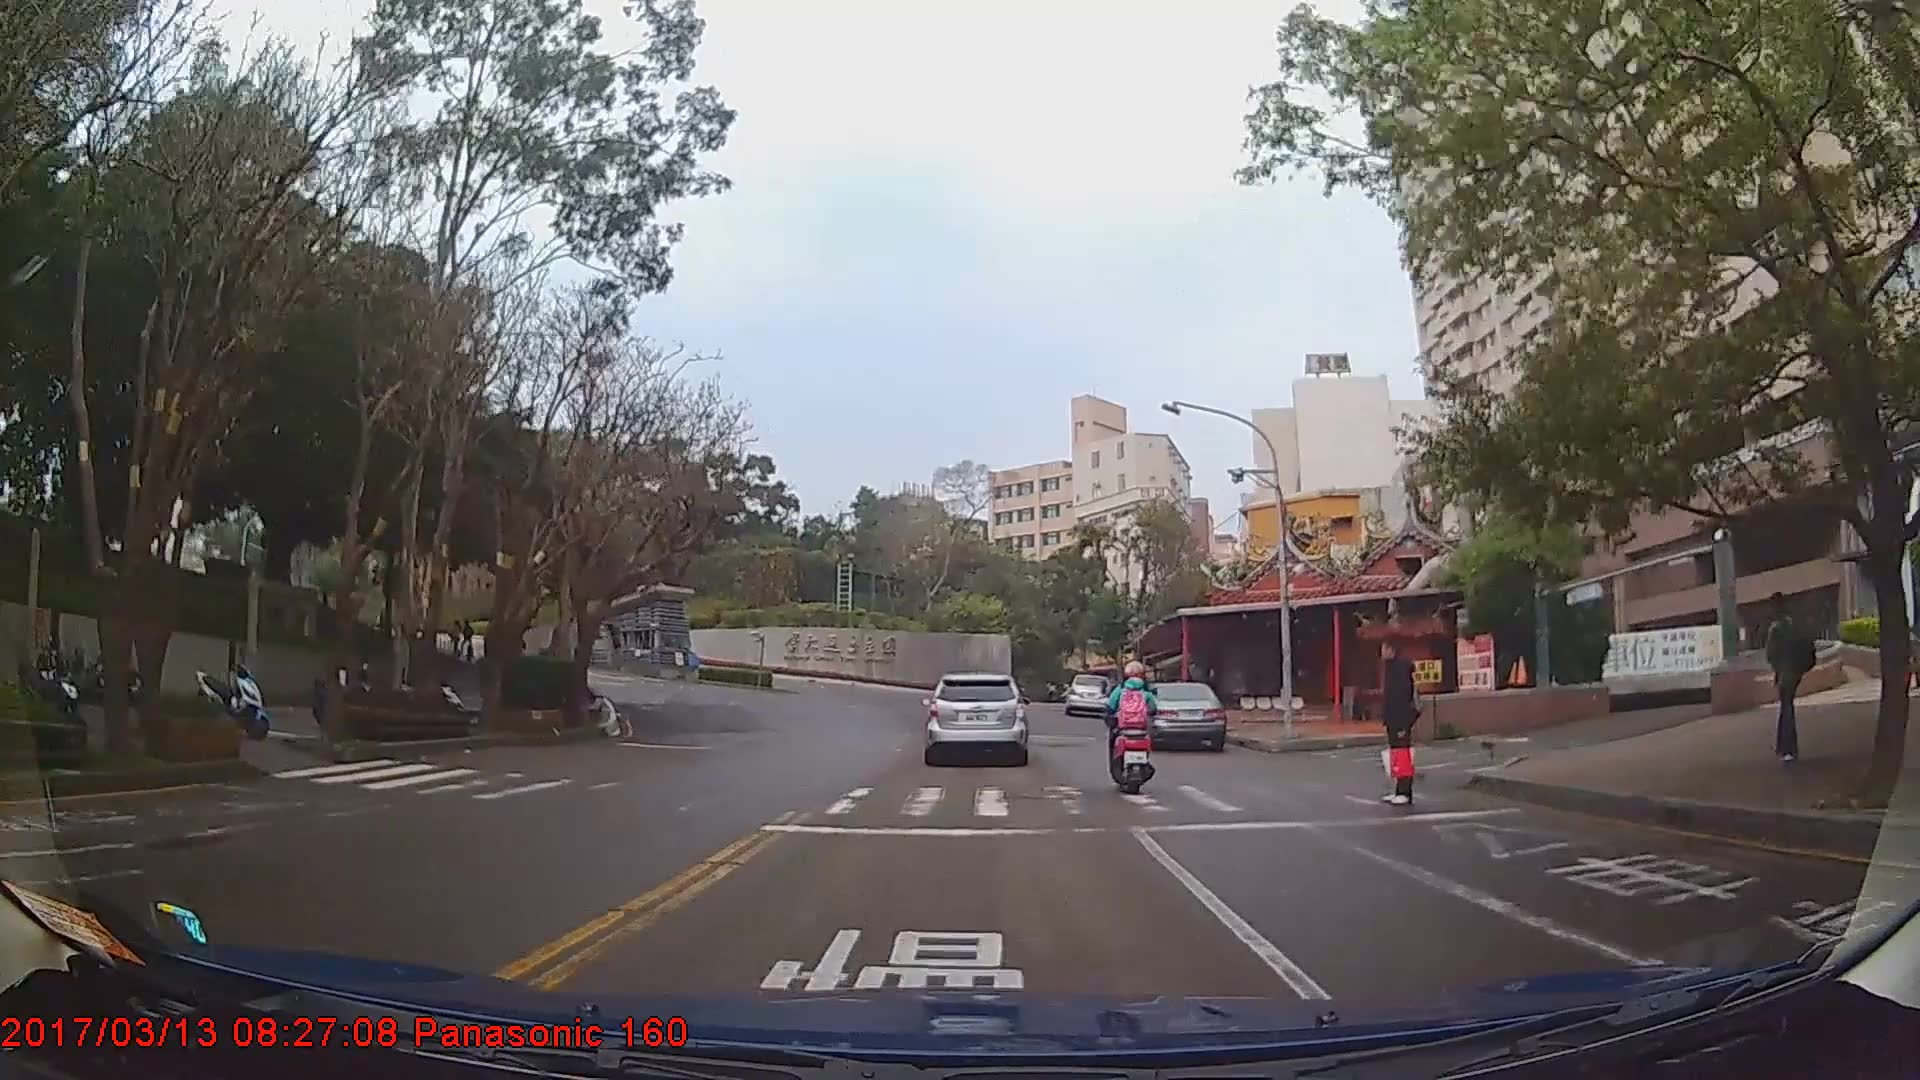pedestrian: (1758, 589, 1817, 762), (1377, 633, 1427, 812)
rider: (1103, 667, 1164, 806)
vehicle: (925, 673, 1027, 769), (1135, 680, 1228, 753), (1066, 675, 1114, 719)
